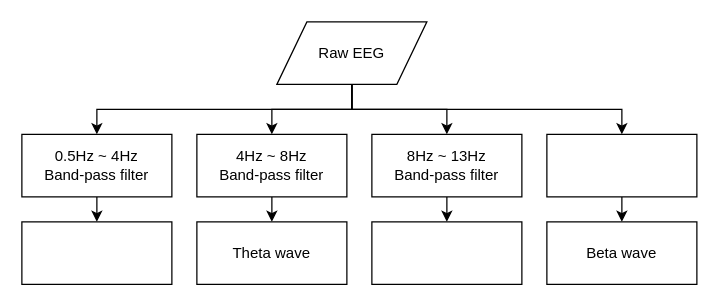
This 719x306 diagram has some shape labels left out. Here are the shapes that lost their labels. From the top down, the centre of each, then its label:
At point 621,165: "13Hz ~ 30Hz Band-pass filter".
At point 96,252: "Delta wave".
At point 446,252: "Alpha wave".
